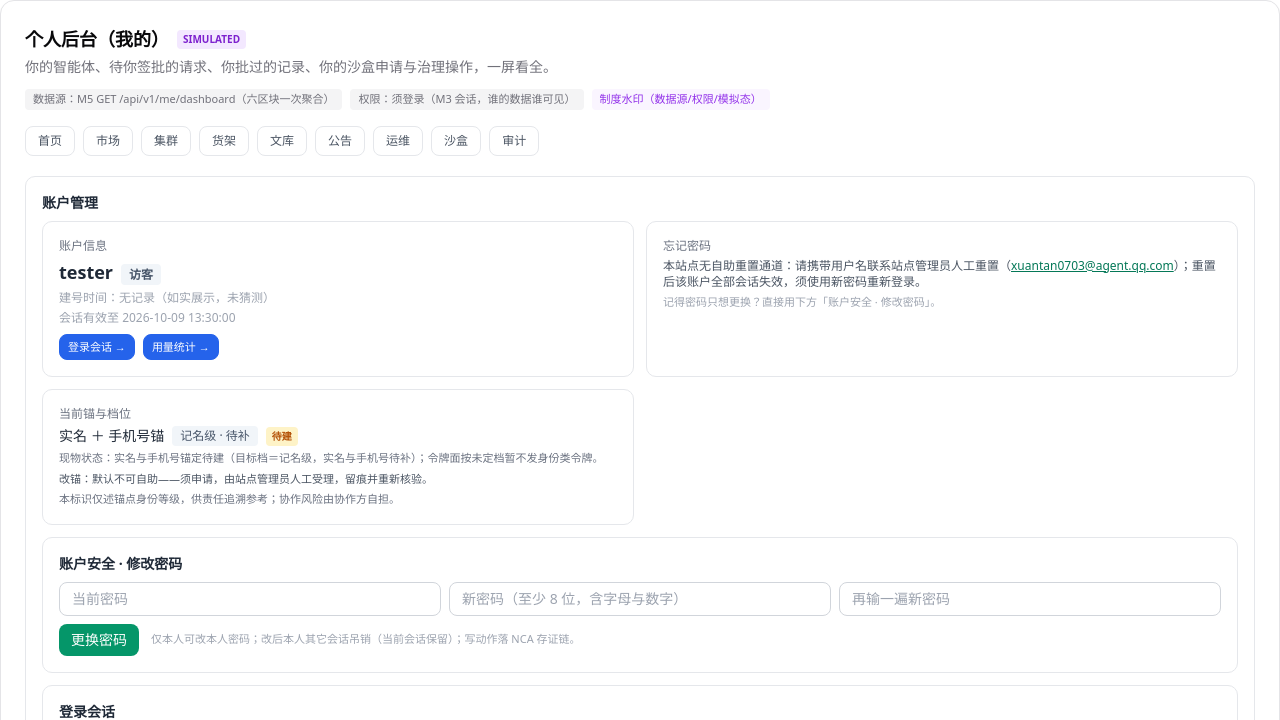
Test: 用户控制台 P1（me.tsx 扩充面） › 改密弱密前端拦截：不发请求，提示强度口径（至少 8 位且含字母与数字）
Check: the element with test id "me-pwd" is shown, box [42, 536, 1238, 672]
Type "old-pass-1" into the password field with test id "me-pwd-old". click: (250, 598)
box: [59, 582, 441, 616]
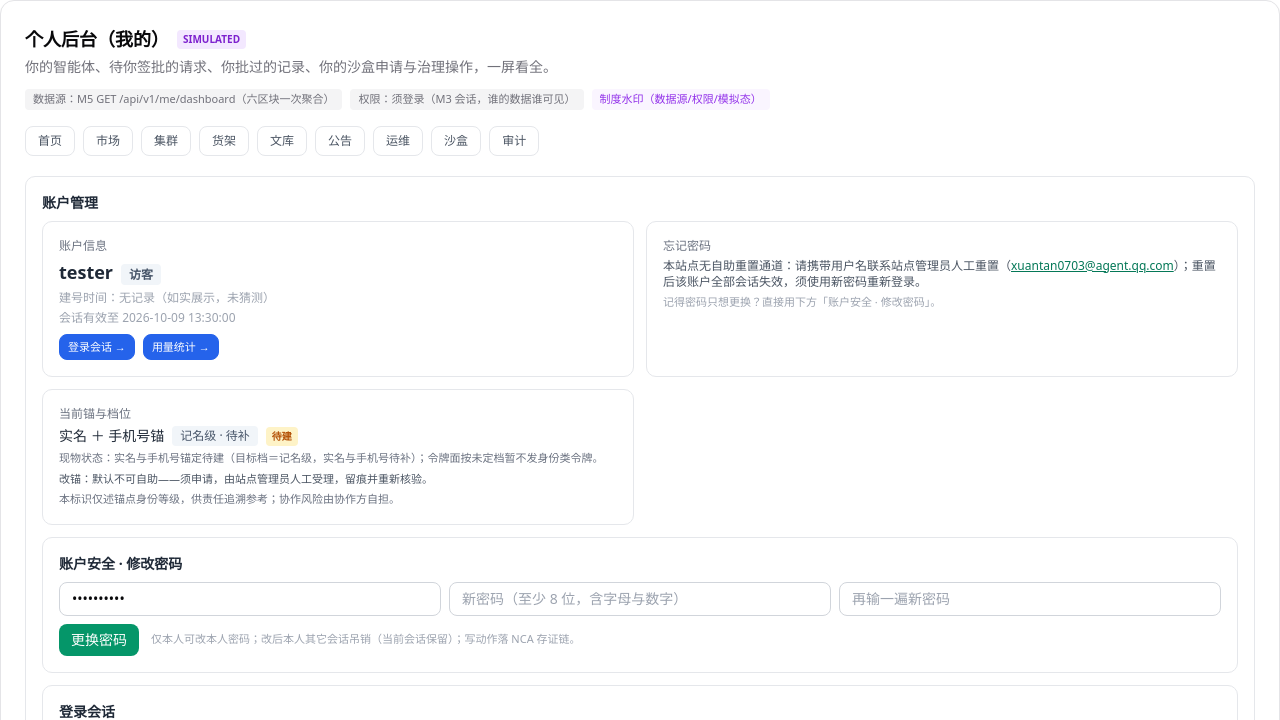
Type "short1" into the password field with test id "me-pwd-new". click: (640, 598)
box: [449, 582, 831, 616]
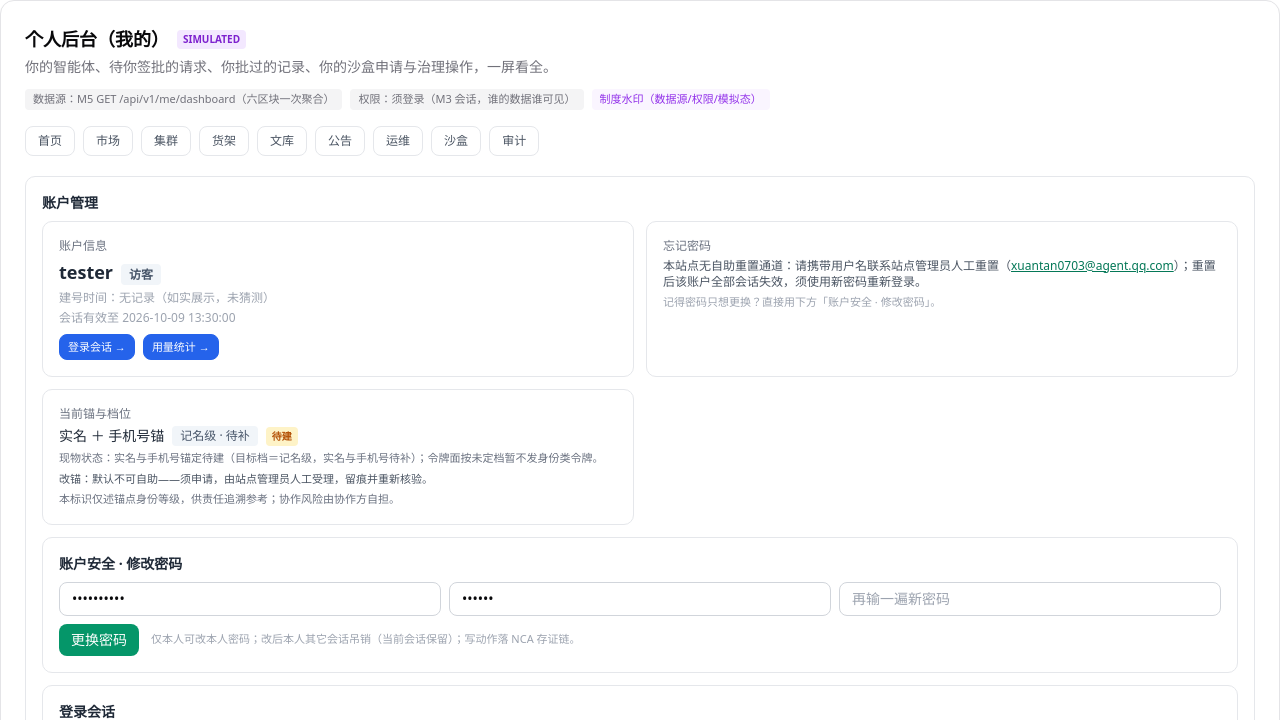
Type "short1" into the password field with test id "me-pwd-confirm". click: (1030, 598)
box: [839, 582, 1221, 616]
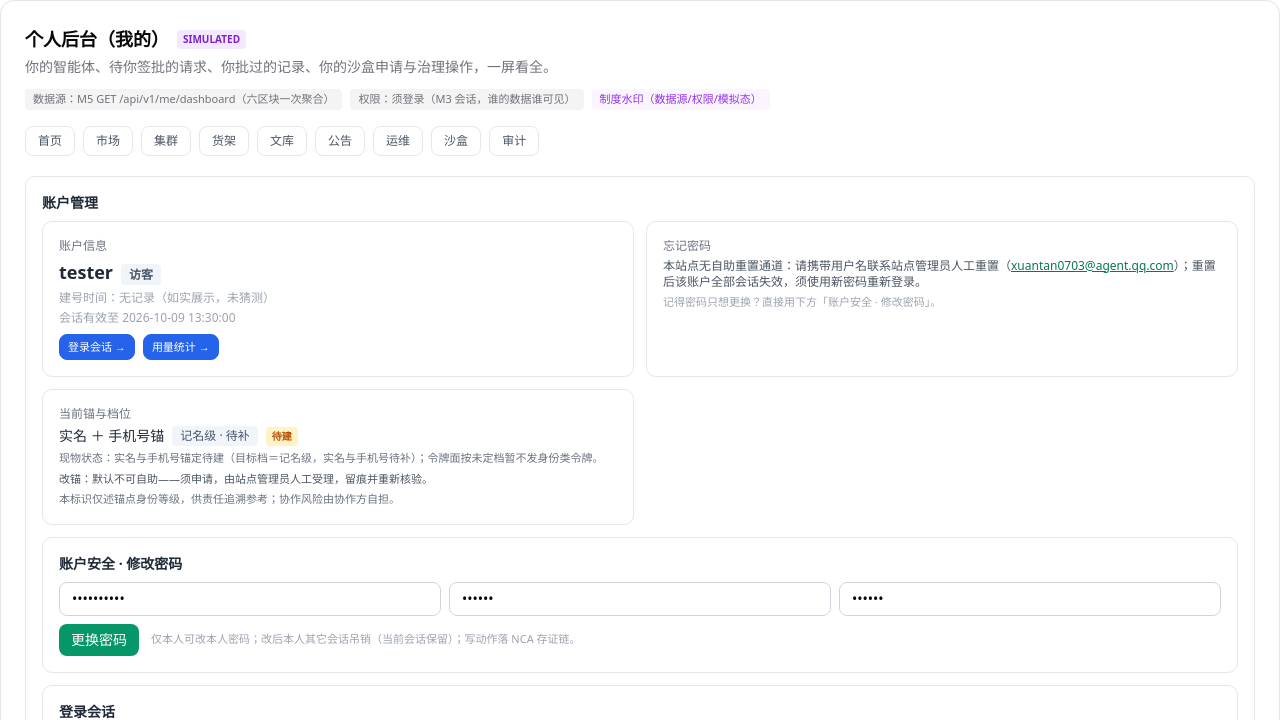
Click the button with test id "me-pwd-submit". click: (99, 640)
box: [59, 624, 139, 656]
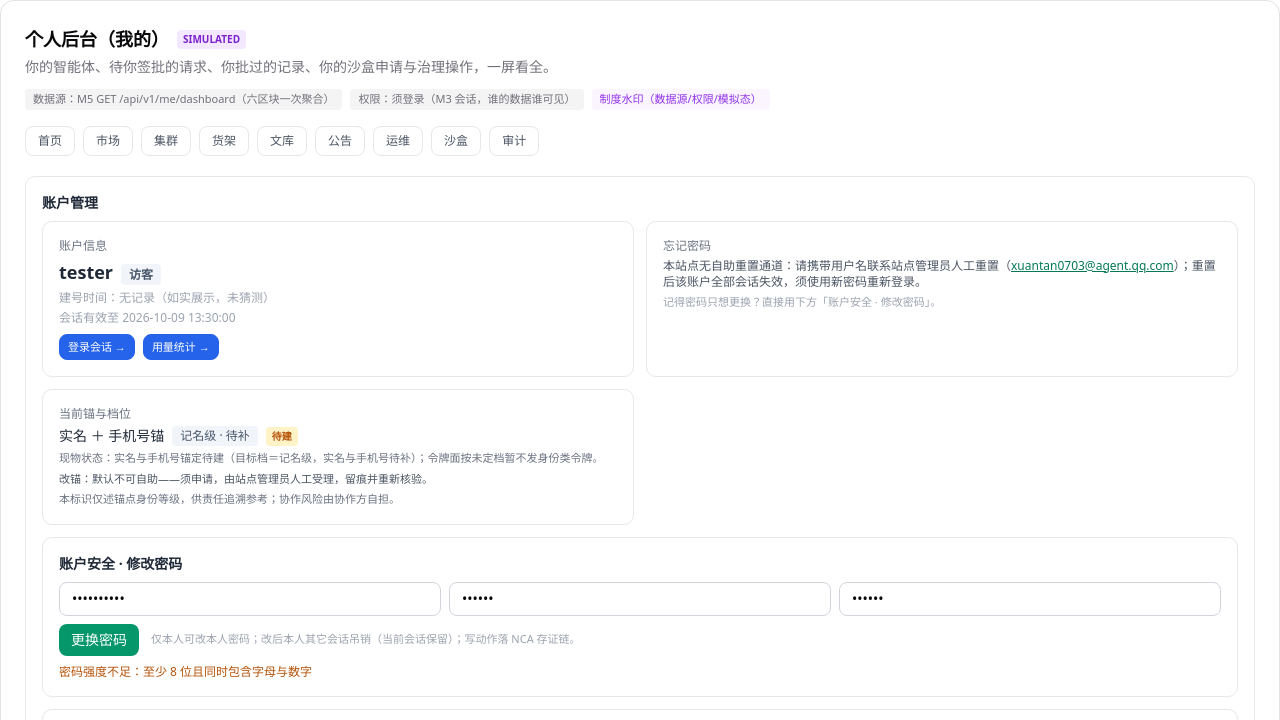
Check: the text with test id "me-pwd-msg" shows "至少 8 位", box [59, 662, 312, 680]
